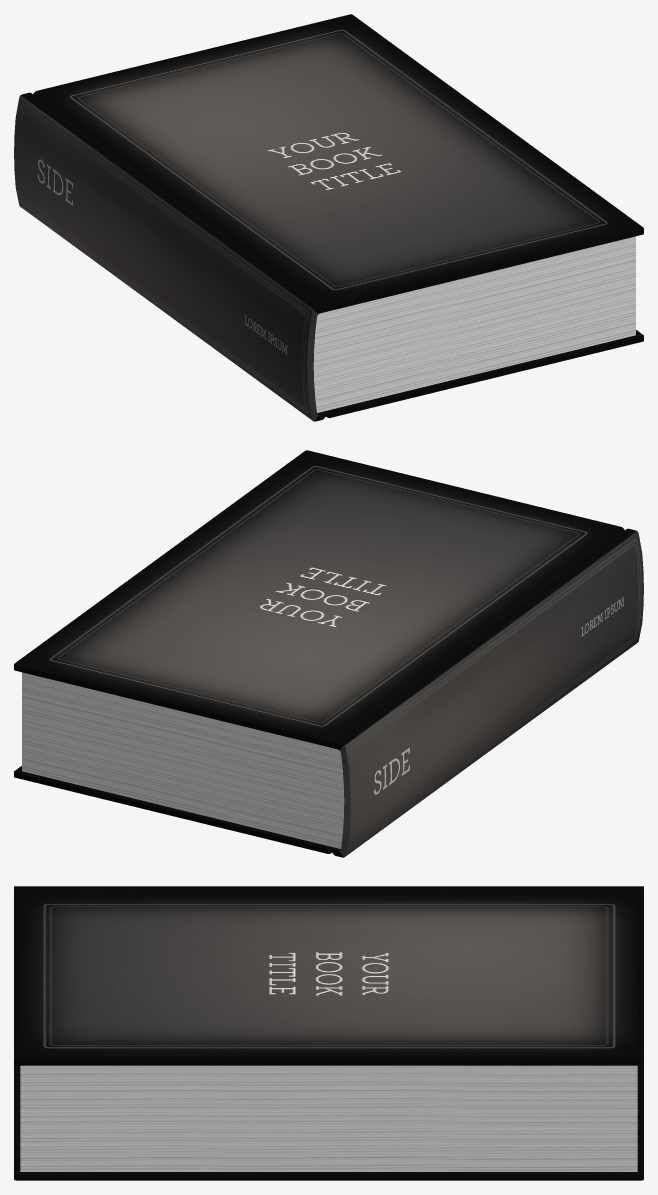
File: Painteddog-hardcover-book-133x203.glb
3 renders of one model, top to bottom at view 1: azimuth 30°, elevation 25°; view 2: azimuth 150°, elevation 25°; view 3: azimuth 270°, elevation 25°, orthographic. The views are drawn at different scales.
Visible parts, largest first — view 1: Book; view 2: Book; view 3: Book.
Boxes of the visible parts, x1,y1,x2,y2 form: Book: (14, 14, 643, 421); Book: (14, 450, 643, 857); Book: (14, 886, 643, 1180).
Bounding box in the file's own units: 0.1378 × 0.0439 × 0.2072.
4 materials, 4 textured.
